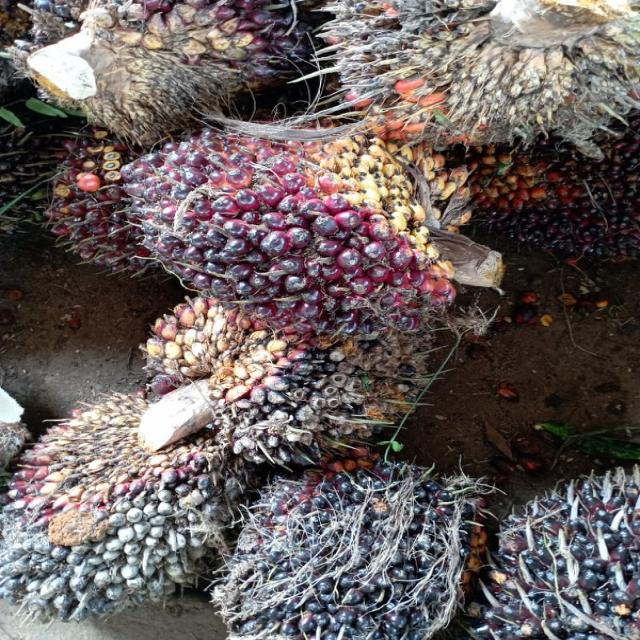fraksi 1: (113, 96, 476, 382)
